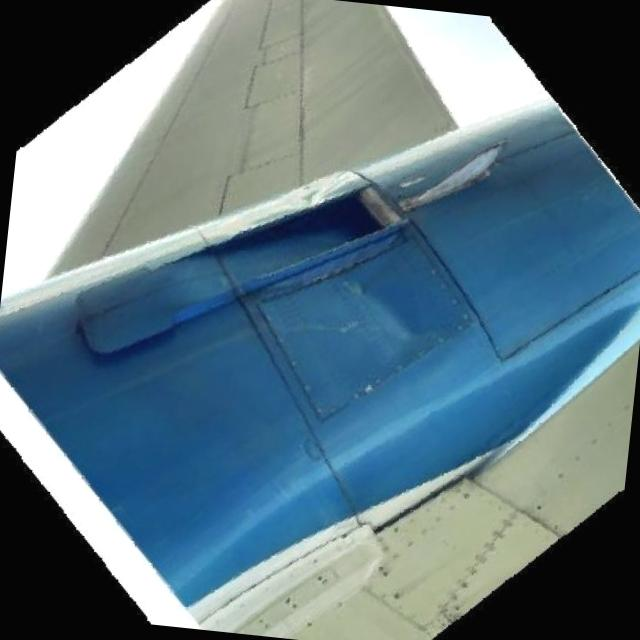dent: (308, 252, 444, 364)
